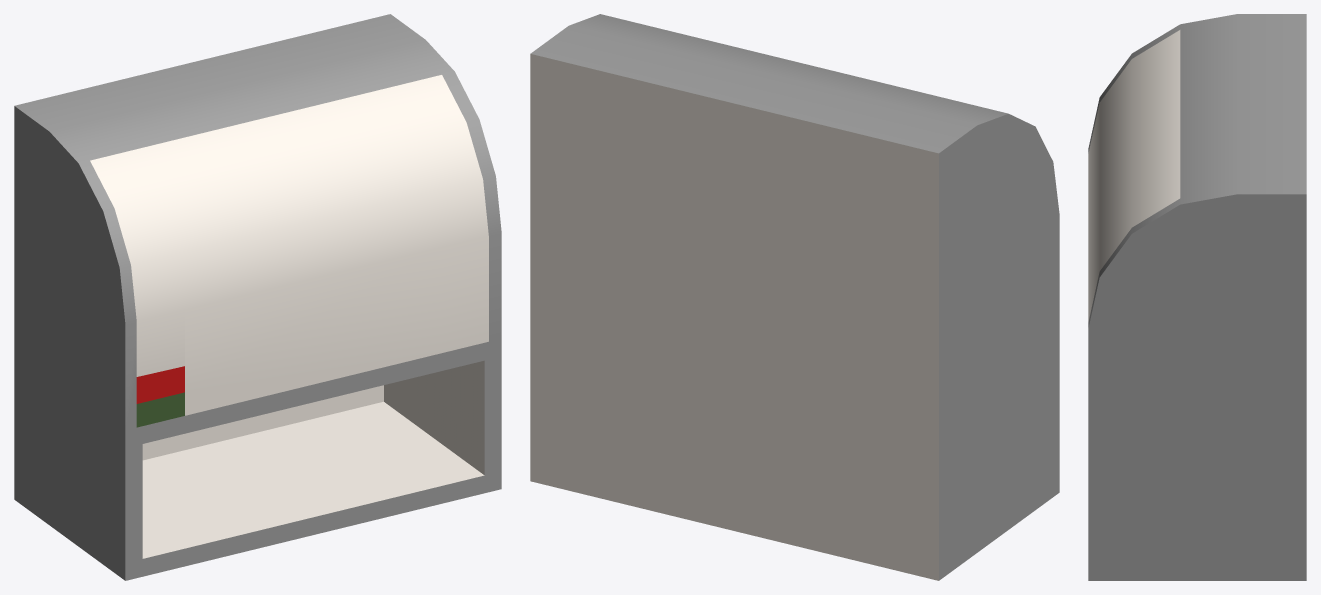
File: HandDryer.fbx
The picture shows the model from 3 angles, left to right: view 1: azimuth 30°, elevation 25°; view 2: azimuth 150°, elevation 25°; view 3: azimuth 270°, elevation 25°; orthographic projection. The views are drawn at different scales.
Visible parts, largest first — view 1: HandDryer; view 2: HandDryer; view 3: HandDryer.
Boxes of the visible parts, x1,y1,x2,y2 form: HandDryer: (14,14,501,580); HandDryer: (530,14,1059,580); HandDryer: (1088,14,1306,580).
Size of the model in its own units: 136 by 136 by 69.78.
